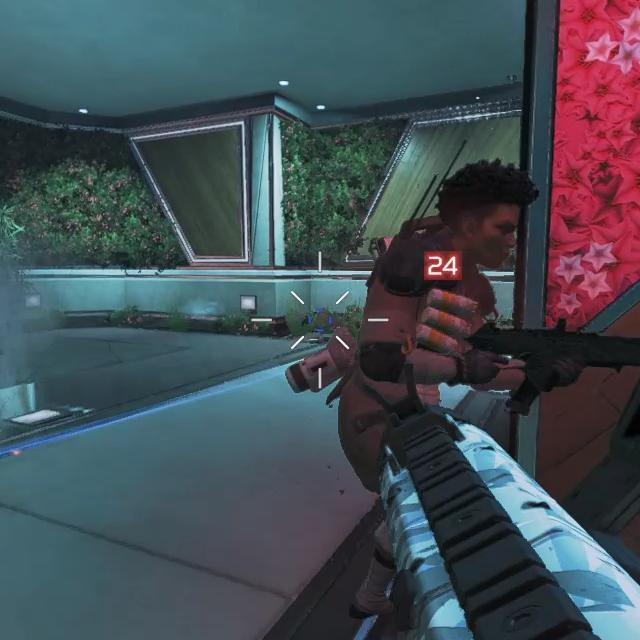avatar: (333, 161, 529, 497)
